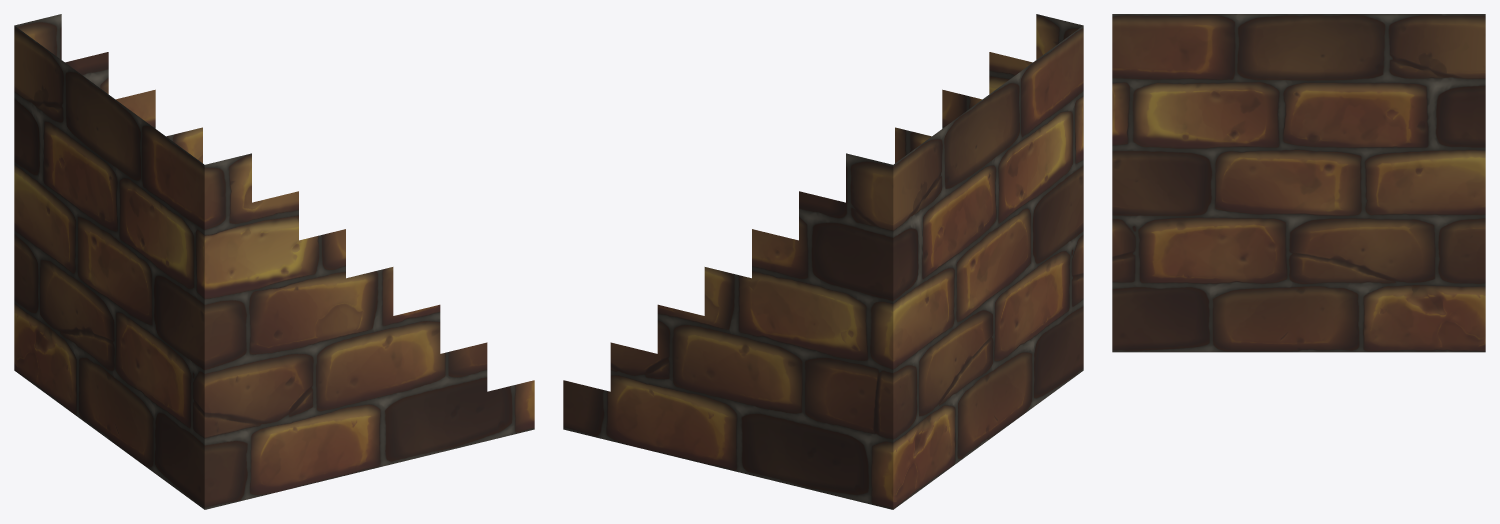
File: MOD_Stairs_02_WallCover_01_half.fbx
The picture shows the model from 3 angles, left to right: view 1: azimuth 30°, elevation 25°; view 2: azimuth 150°, elevation 25°; view 3: azimuth 270°, elevation 25°; orthographic projection. The views are drawn at different scales.
Visible parts, largest first — view 1: MOD_Stairs_02_WallCover_01_half; view 2: MOD_Stairs_02_WallCover_01_half; view 3: MOD_Stairs_02_WallCover_01_half.
Part boxes in pixels (x1=…): MOD_Stairs_02_WallCover_01_half: x1=14, y1=14, x2=534, y2=509; MOD_Stairs_02_WallCover_01_half: x1=563, y1=14, x2=1083, y2=509; MOD_Stairs_02_WallCover_01_half: x1=1112, y1=14, x2=1485, y2=352.
Size of the model in its own units: 200 by 200 by 200.
